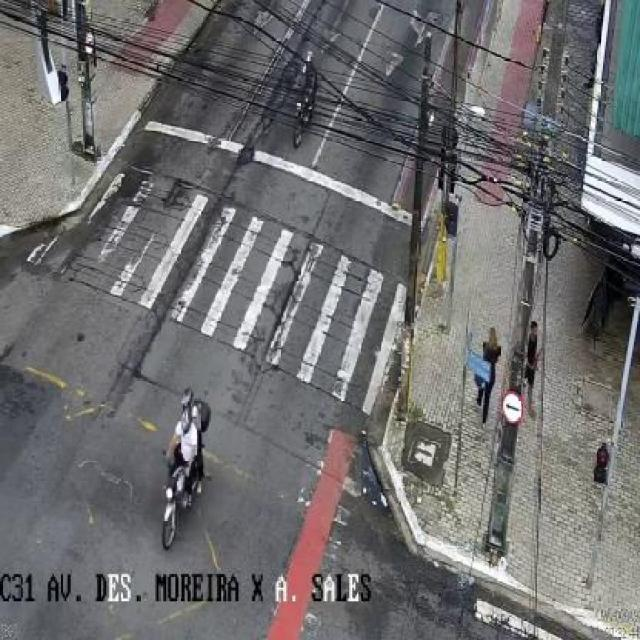Cycle: (156, 434, 211, 558), (286, 63, 320, 150)
